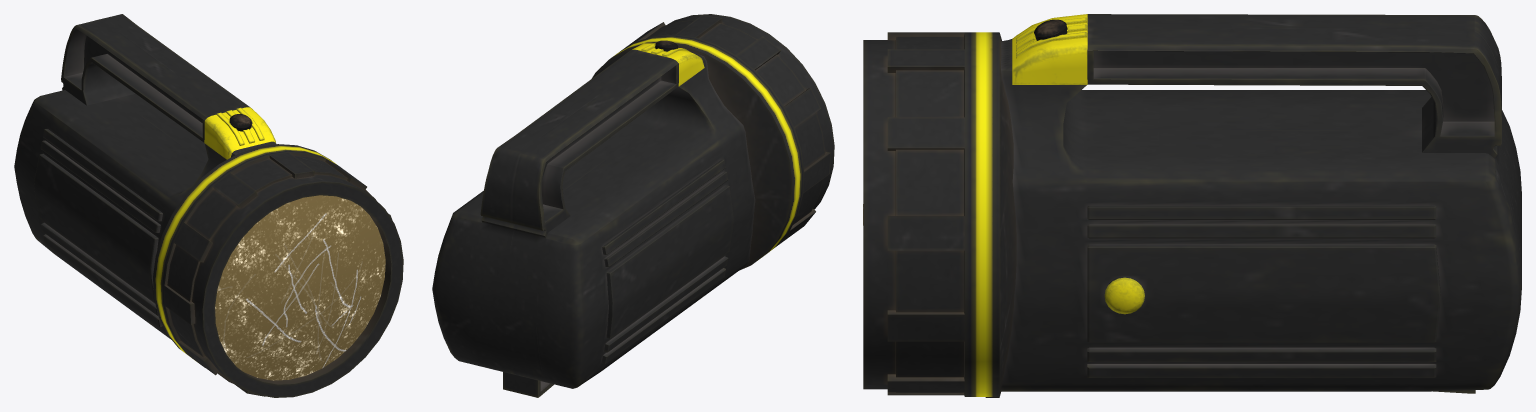
File: flashlight.glb
The picture shows the model from 3 angles, left to right: view 1: azimuth 30°, elevation 25°; view 2: azimuth 150°, elevation 25°; view 3: azimuth 270°, elevation 25°; orthographic projection. The views are drawn at different scales.
Visible parts, largest first — view 1: korpus_low, pered_low, steklo_low, knopka_low.001; view 2: korpus_low, pered_low, knopka_low.001; view 3: korpus_low, pered_low, knopka_low.001.
Part boxes in pixels (<box>): korpus_low: <box>14,14,276,339</box>; pered_low: <box>153,144,403,397</box>; steklo_low: <box>215,195,385,380</box>; knopka_low.001: <box>204,107,275,159</box>; korpus_low: <box>432,49,755,397</box>; pered_low: <box>592,14,834,270</box>; knopka_low.001: <box>632,40,704,86</box>; korpus_low: <box>1000,14,1521,393</box>; pered_low: <box>863,32,1016,397</box>; knopka_low.001: <box>1012,14,1144,314</box>.
Size of the model in its own units: 0.2442 by 0.265 by 0.4413.
Materials: 6 (5 with a texture image).
